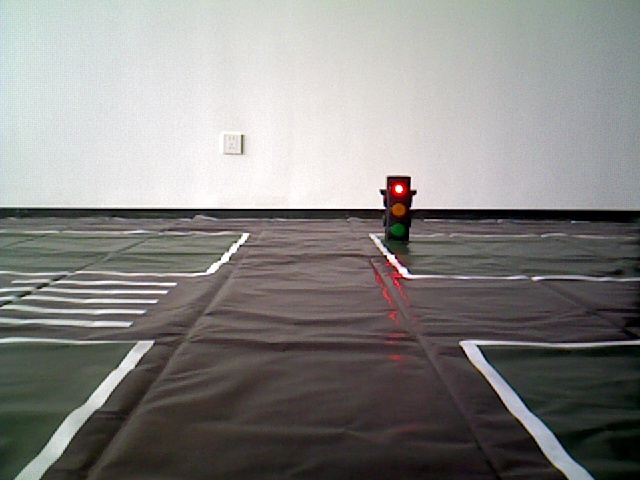red: (386, 176, 410, 242)
